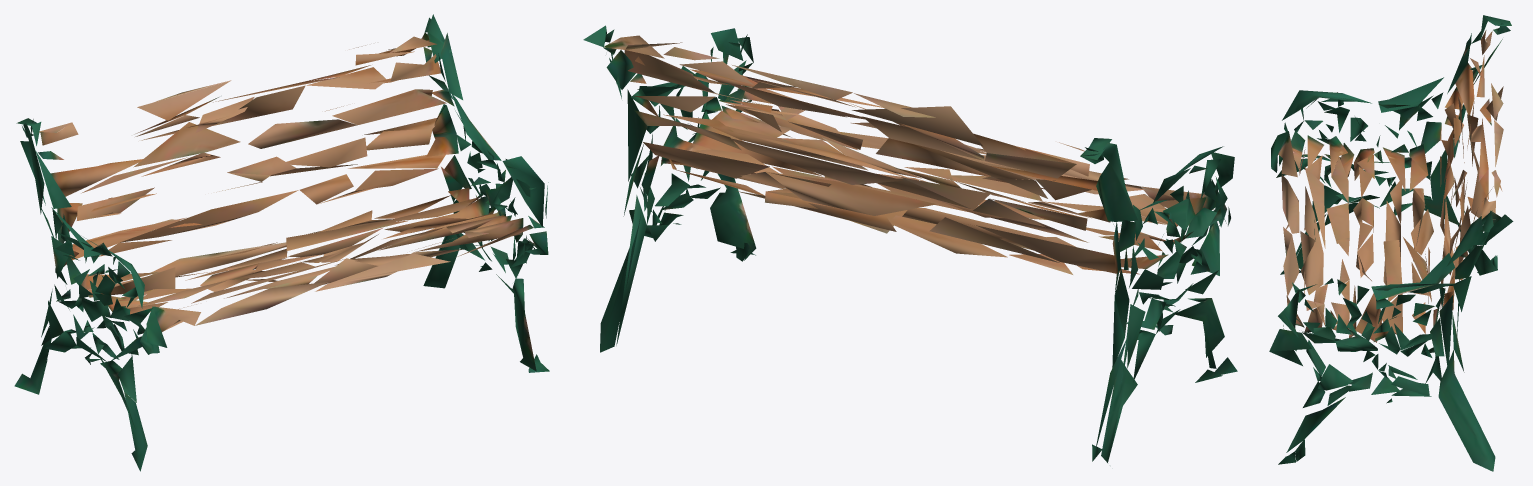
Rendered from cp_bench.glb.
3 views of the same model, side by side, from view 1: azimuth 30°, elevation 25°; view 2: azimuth 150°, elevation 25°; view 3: azimuth 270°, elevation 25° (orthographic). The views are drawn at different scales.
Visible parts, largest first — view 1: tripo_node_898a3326-af9d-4f30-8cda-f0e14c94b4b4; view 2: tripo_node_898a3326-af9d-4f30-8cda-f0e14c94b4b4; view 3: tripo_node_898a3326-af9d-4f30-8cda-f0e14c94b4b4.
Part boxes in pixels (x1,y1,x2,y2): tripo_node_898a3326-af9d-4f30-8cda-f0e14c94b4b4: (14,14,549,471); tripo_node_898a3326-af9d-4f30-8cda-f0e14c94b4b4: (583,25,1237,462); tripo_node_898a3326-af9d-4f30-8cda-f0e14c94b4b4: (1269,15,1513,471).
Size of the model in its own units: 1.03 by 0.6346 by 0.5322.
1 material, 1 textured.
